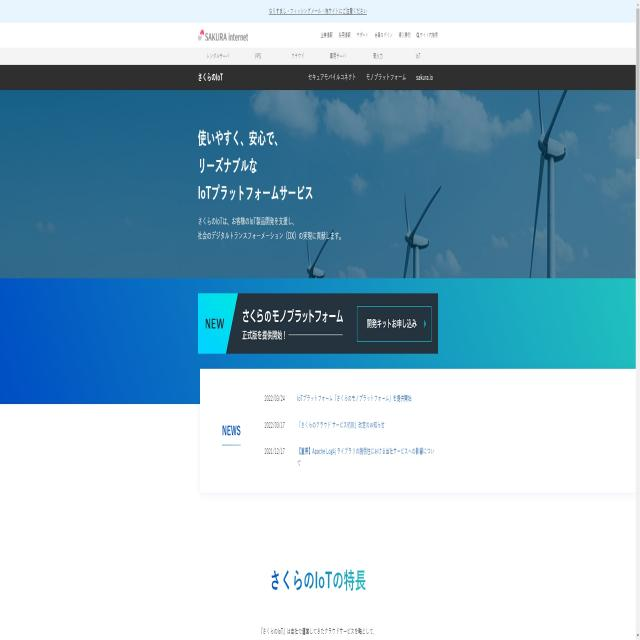menu-bar: (318, 25, 444, 45)
tab-bar: (196, 48, 427, 64), (302, 65, 439, 88)
